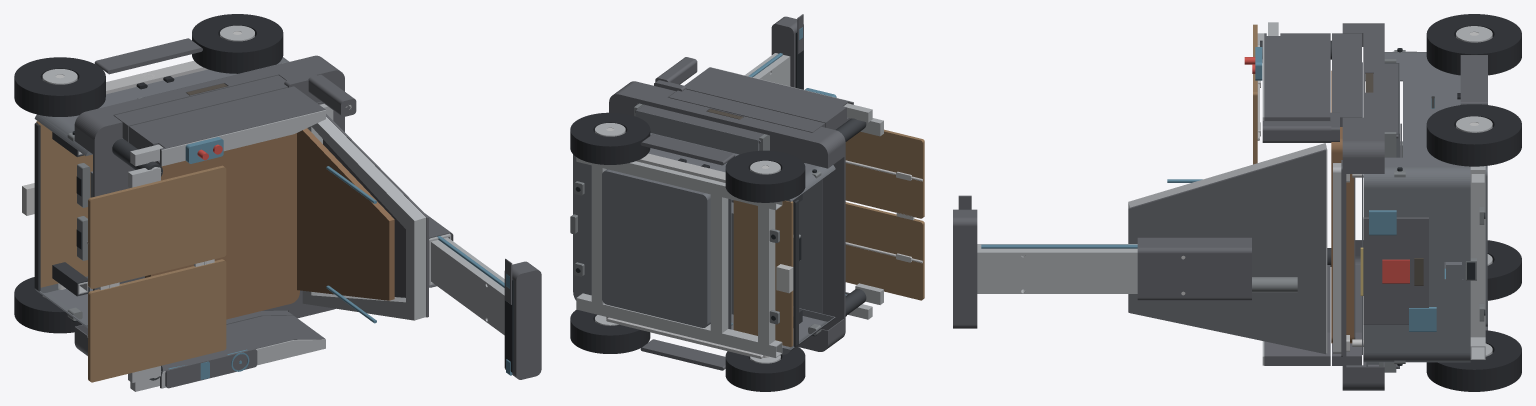
File: workcore_e6_dfr5_focus.glb
The picture shows the model from 3 angles, left to right: view 1: azimuth 30°, elevation 25°; view 2: azimuth 150°, elevation 25°; view 3: azimuth 270°, elevation 25°; orthographic projection. The views are drawn at different scales.
Parts seen in each view (by area): view 1: seat_cushion_envelope, desk_panel_right, desk_panel_left, backrest_cushion_envelope, upper_deck_panel, backrest_structural_carrier, armrest_shell_right, footrest_platform_stowed, tyre_front_right, tyre_rear_right, mast_inner_focus, sensor_beam_shell_focus (+21 smaller); view 2: battery_safety_cassette, upper_deck_panel, desk_panel_left, desk_panel_right, footrest_platform_stowed, lower_body_enclosure, armrest_shell_right, tyre_front_right, tyre_rear_right, occupant_energy_firewall, chassis_rail_left, chassis_crossmember_2 (+24 smaller); view 3: backrest_rear_cosmetic_shell, lower_body_enclosure, mast_inner_focus, mast_outer_cosmetic_shroud_focus, upper_deck_panel, armrest_shell_right, service_rear_flush_door, tyre_rear_right, tyre_front_right, tyre_rear_left, sensor_beam_shell_focus, armrest_base_shell_right (+19 smaller).
Boxes of the visible parts, box(x1,y1,x2,y2) form: seat_cushion_envelope: box(145, 133, 299, 319); desk_panel_right: box(88, 165, 226, 288); desk_panel_left: box(88, 259, 226, 382); backrest_cushion_envelope: box(297, 128, 394, 300); upper_deck_panel: box(74, 55, 344, 355); backrest_structural_carrier: box(302, 116, 426, 320); armrest_shell_right: box(129, 86, 325, 166); footrest_platform_stowed: box(36, 121, 92, 287); tyre_front_right: box(14, 57, 105, 116); tyre_rear_right: box(192, 14, 283, 73); mast_inner_focus: box(431, 237, 504, 335); sensor_beam_shell_focus: box(504, 261, 541, 379); battery_safety_cassette: box(602, 169, 710, 327); upper_deck_panel: box(609, 81, 845, 351); desk_panel_left: box(845, 202, 924, 300); desk_panel_right: box(845, 129, 924, 218); footrest_platform_stowed: box(733, 200, 793, 347); lower_body_enclosure: box(573, 133, 835, 354); armrest_shell_right: box(684, 67, 853, 129); tyre_front_right: box(725, 150, 805, 202); tyre_rear_right: box(570, 112, 650, 164); occupant_energy_firewall: box(793, 179, 822, 313); chassis_rail_left: box(576, 293, 782, 357); chassis_crossmember_2: box(710, 189, 728, 338); backrest_rear_cosmetic_shell: box(1128, 149, 1325, 354); lower_body_enclosure: box(1363, 51, 1470, 362); mast_inner_focus: box(977, 244, 1137, 293); mast_outer_cosmetic_shroud_focus: box(1137, 237, 1251, 300); upper_deck_panel: box(1342, 23, 1384, 390); armrest_shell_right: box(1264, 33, 1330, 120); service_rear_flush_door: box(1363, 217, 1428, 324); tyre_rear_right: box(1426, 104, 1521, 166); tyre_front_right: box(1426, 14, 1521, 75); tyre_rear_left: box(1426, 330, 1521, 391); sensor_beam_shell_focus: box(953, 209, 977, 328); armrest_base_shell_right: box(1332, 33, 1361, 126).
Size of the model in its own units: 0.971 by 0.735 by 1.49.
